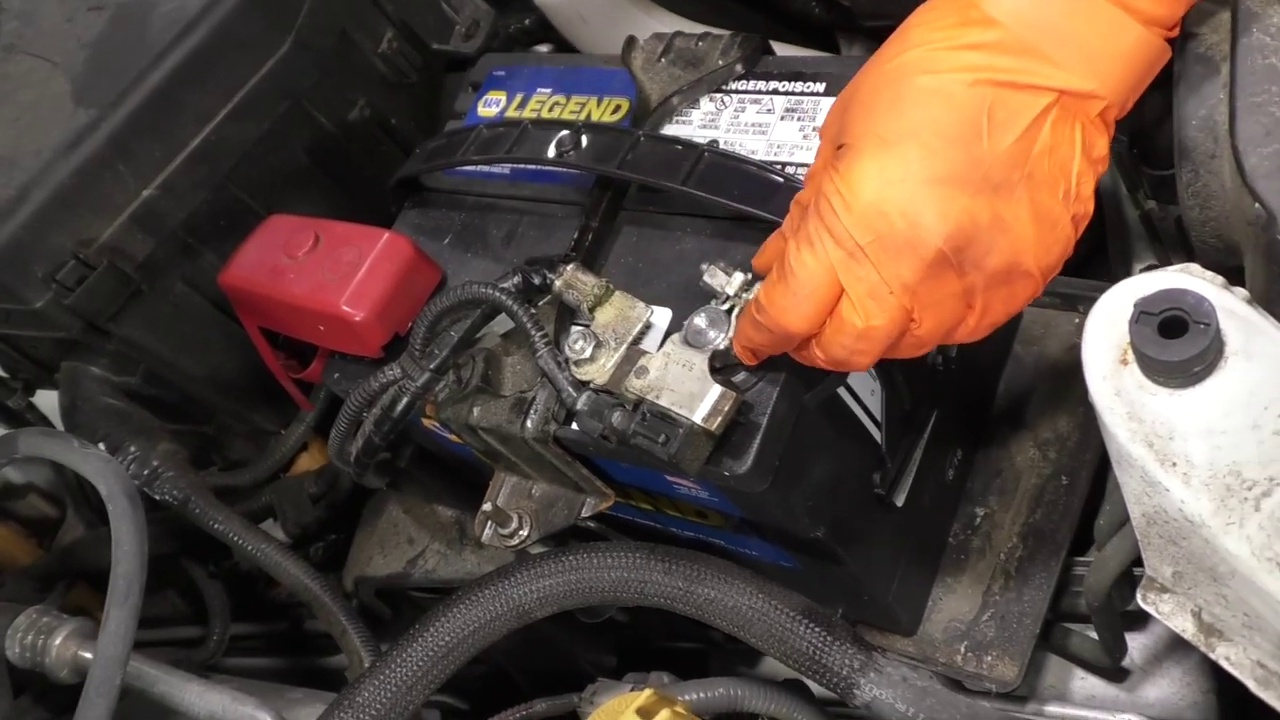battery: (294, 55, 870, 470)
neg_connected: (624, 262, 759, 453)
neg_touched: (627, 201, 847, 456)
pos_connected: (193, 206, 447, 412)
